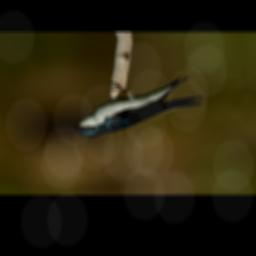Swallow: (68, 73, 210, 139)
